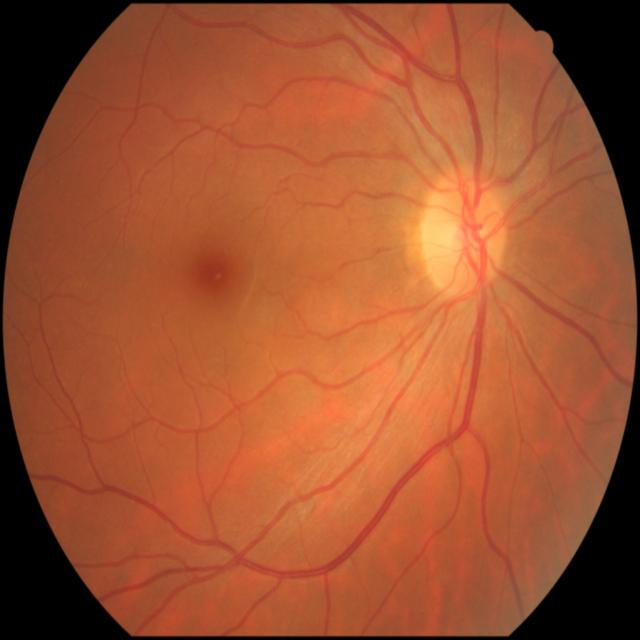OC: (442, 219, 468, 252)
OD: (418, 172, 507, 290)
